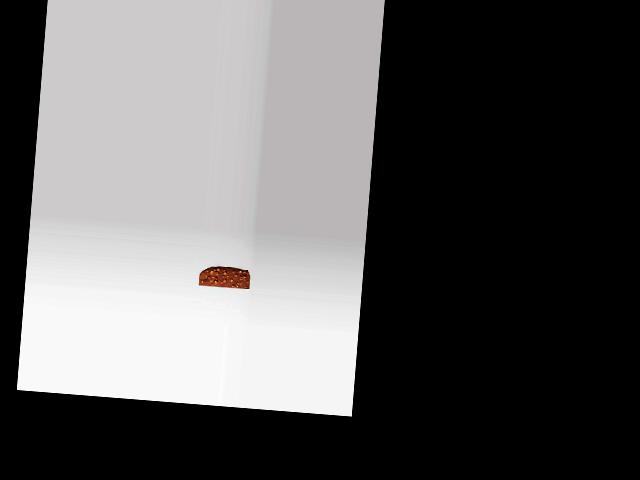chocolate: (198, 261, 251, 291)
